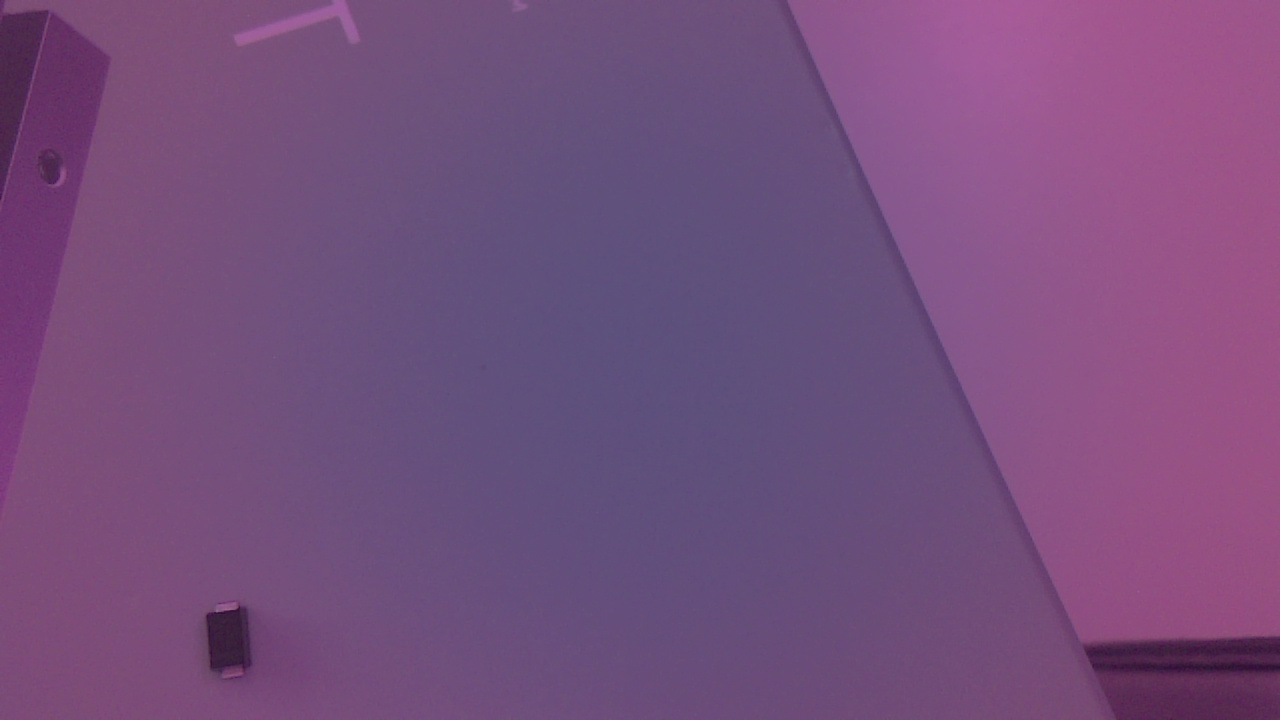Diode: (207, 601, 266, 687)
